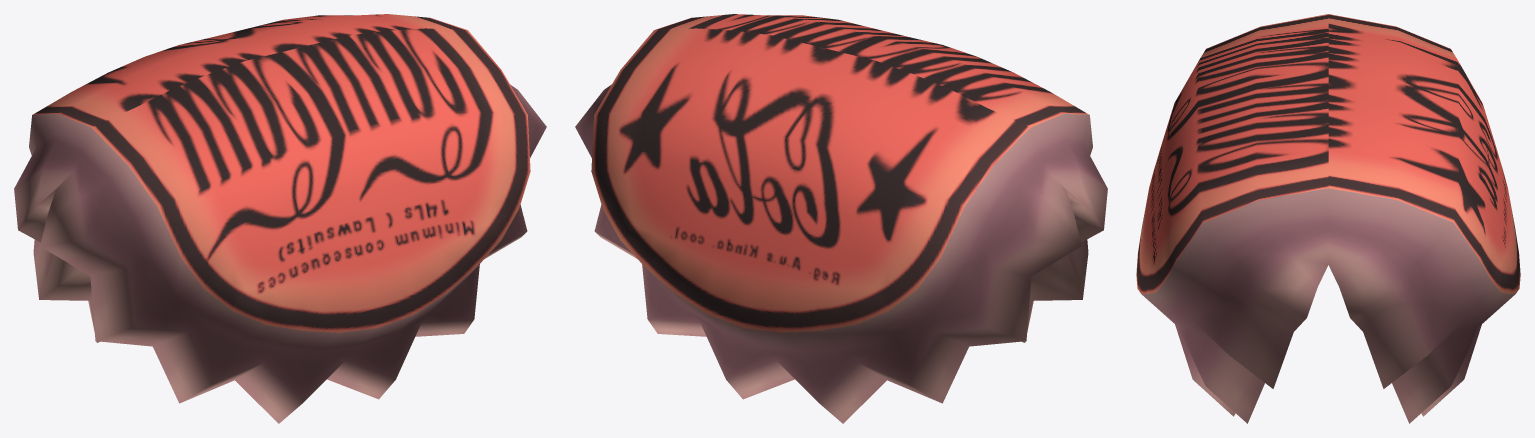
The model's file is BottleCap_Bent_CC.fbx.
The picture shows the model from 3 angles, left to right: view 1: azimuth 30°, elevation 25°; view 2: azimuth 150°, elevation 25°; view 3: azimuth 270°, elevation 25°; orthographic projection. The views are drawn at different scales.
Parts seen in each view (by area): view 1: BottleCap_Bent_CC; view 2: BottleCap_Bent_CC; view 3: BottleCap_Bent_CC.
Part boxes in pixels (<box>): BottleCap_Bent_CC: <box>14,14,546,423</box>; BottleCap_Bent_CC: <box>575,14,1107,423</box>; BottleCap_Bent_CC: <box>1136,14,1520,423</box>.
Bounding box in the file's own units: 512 × 315 × 346.
